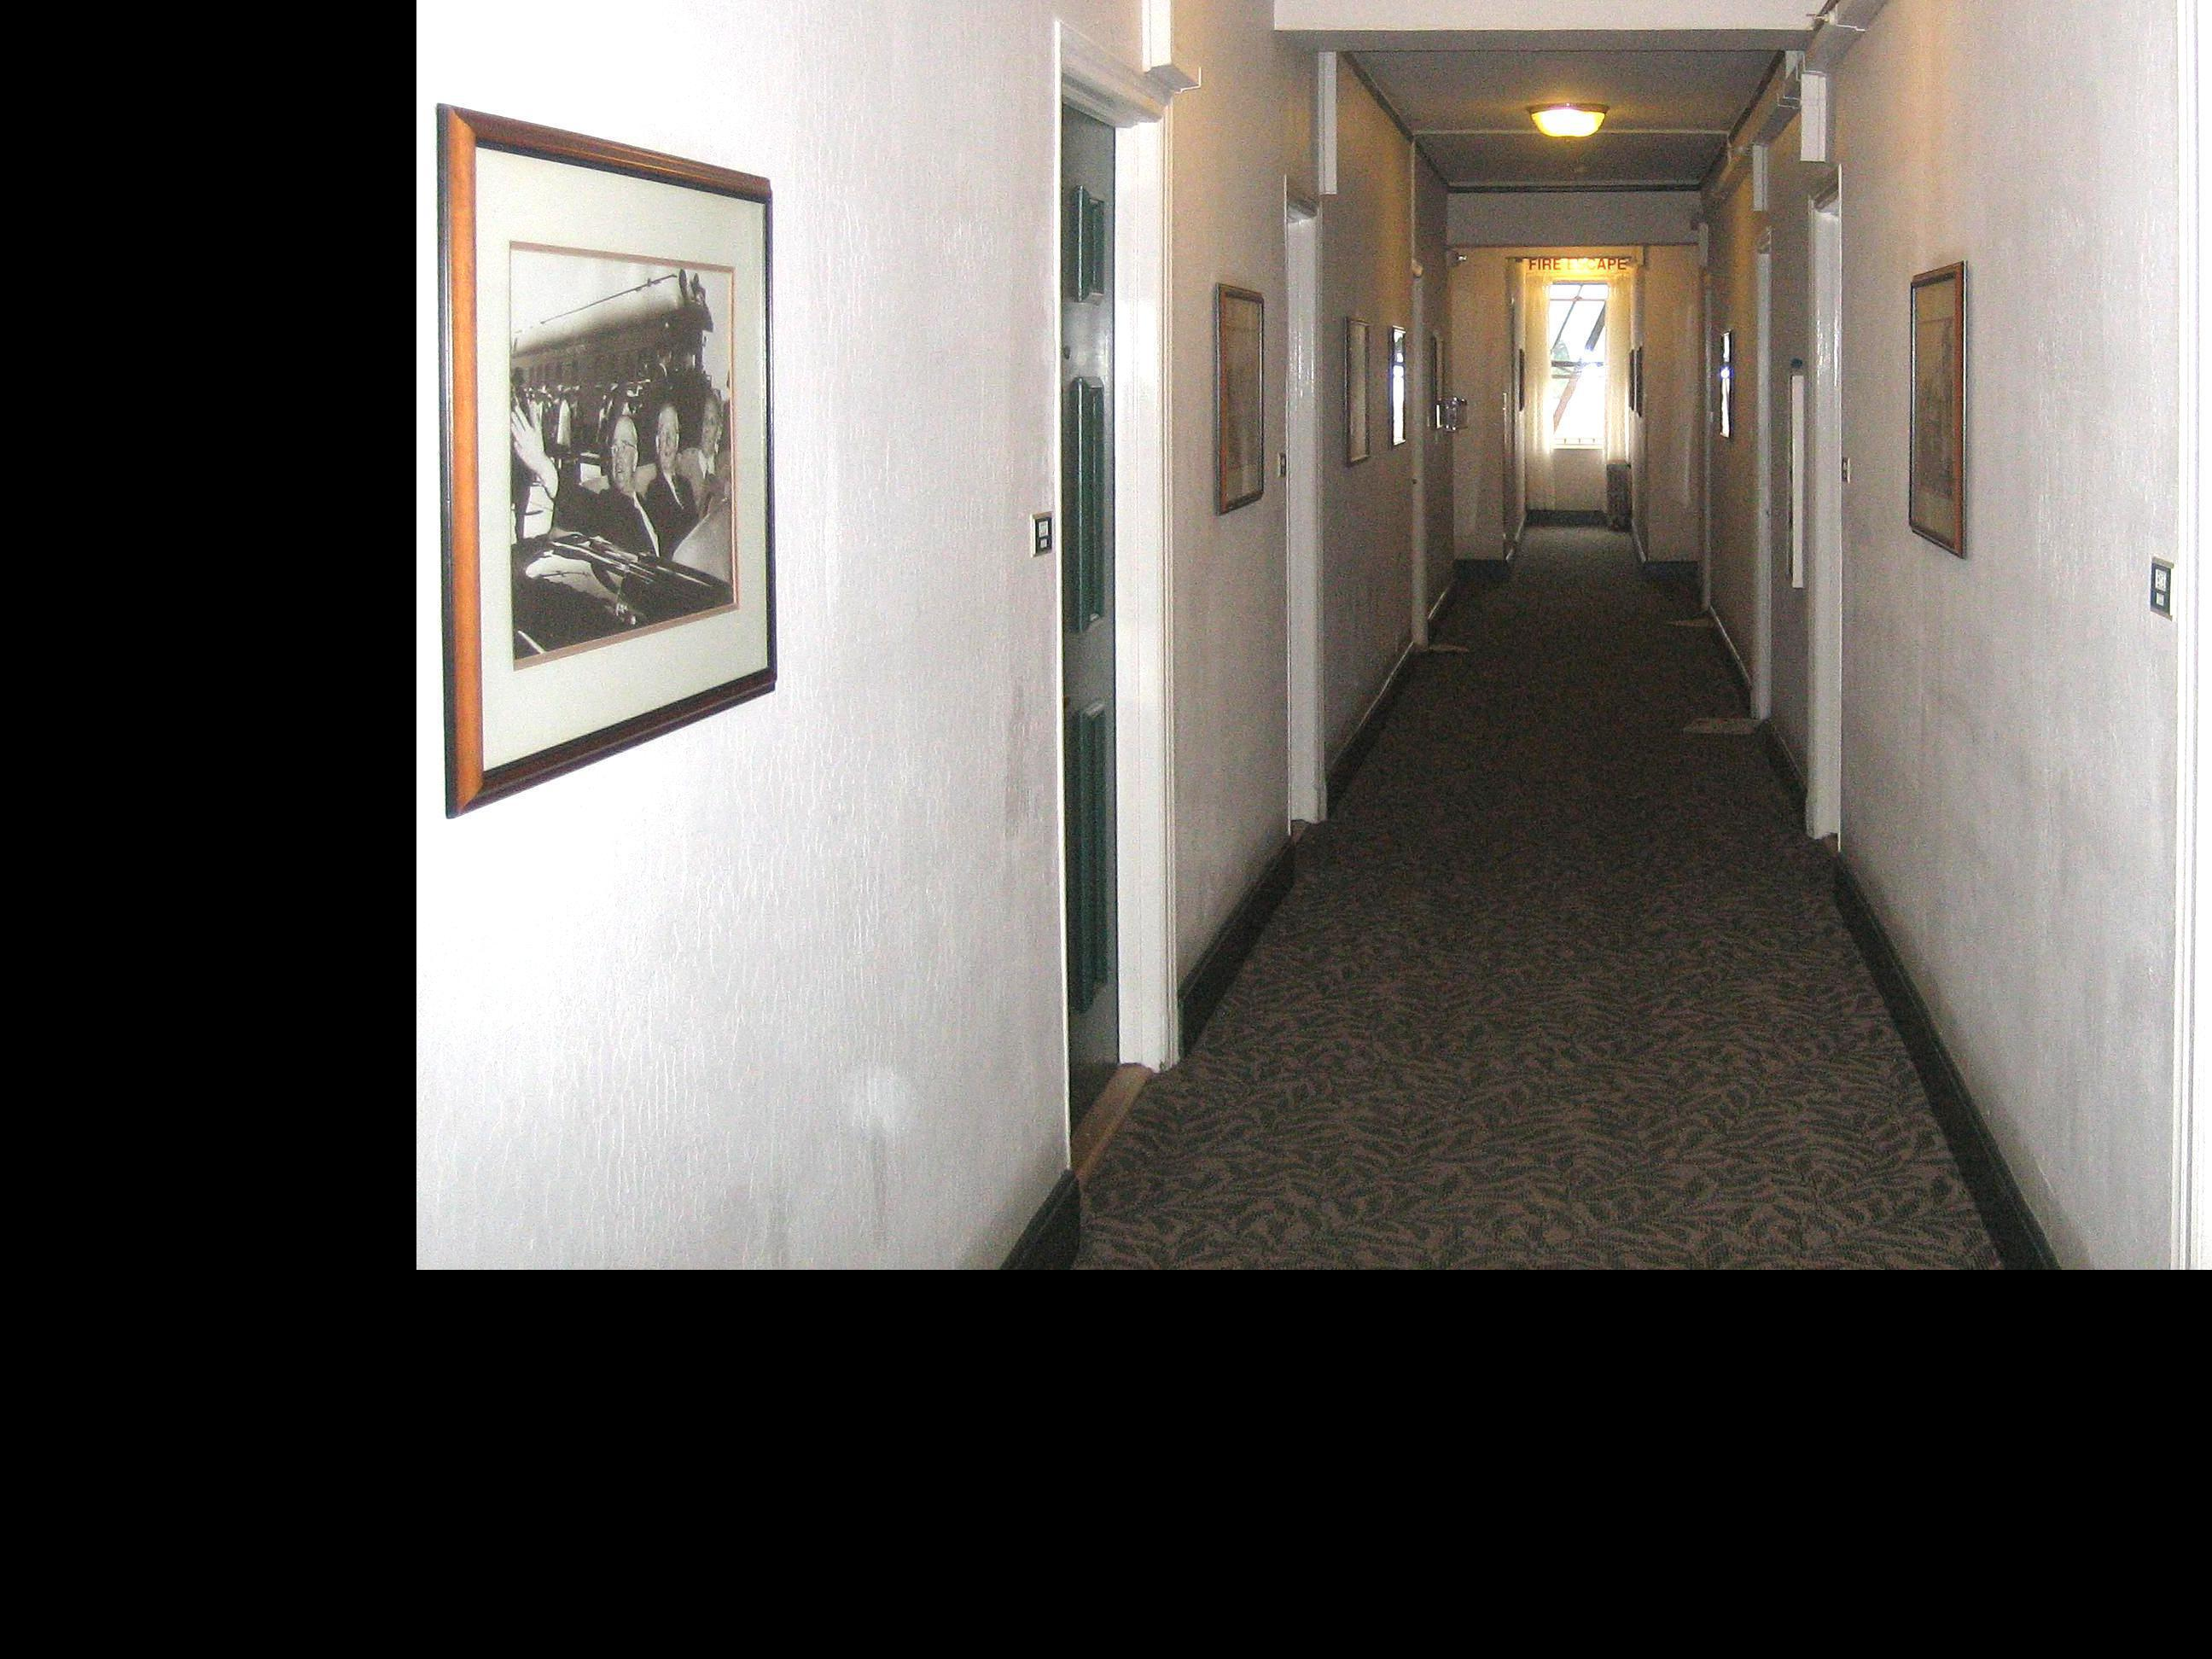Puerta: (1049, 63, 1160, 1121)
